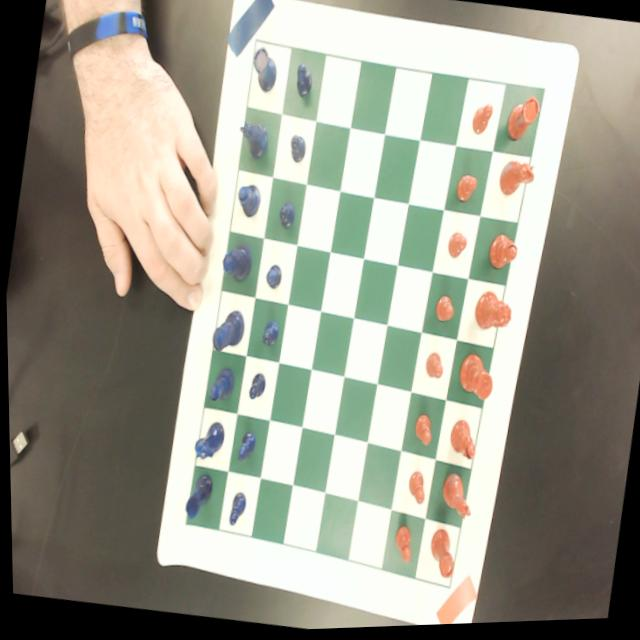B: (233, 184, 263, 223), (206, 368, 234, 406)
K: (210, 310, 246, 357)
N: (188, 419, 225, 463), (234, 121, 271, 164)
P: (224, 492, 247, 532), (292, 64, 316, 102), (285, 135, 309, 168), (234, 431, 256, 466), (246, 371, 266, 404), (258, 321, 279, 352), (276, 202, 296, 234), (262, 266, 283, 295)
Q: (217, 242, 254, 287)
R: (247, 46, 281, 98), (180, 474, 214, 525)
b: (484, 234, 520, 277), (445, 420, 477, 465)
k: (452, 355, 496, 407)
n: (435, 475, 475, 526), (496, 163, 538, 205)
p: (389, 527, 414, 567), (408, 414, 434, 452), (403, 472, 427, 510), (469, 104, 493, 142), (453, 175, 478, 209), (444, 233, 468, 266), (432, 295, 455, 329), (421, 354, 444, 385)
q: (471, 292, 514, 338)
r: (503, 94, 543, 149), (422, 530, 458, 585)
